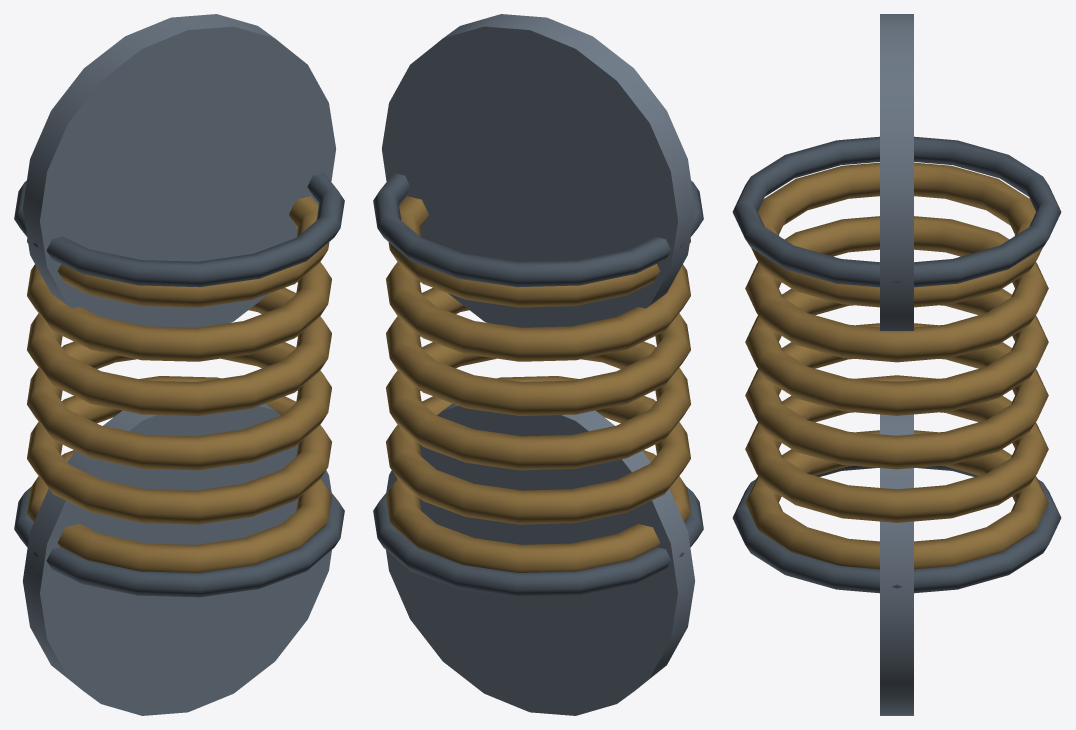
The model's file is flexible-connector.glb.
The picture shows the model from 3 angles, left to right: view 1: azimuth 30°, elevation 25°; view 2: azimuth 150°, elevation 25°; view 3: azimuth 270°, elevation 25°; orthographic projection.
Size of the model in its own units: 0.4 by 0.88 by 0.39.
